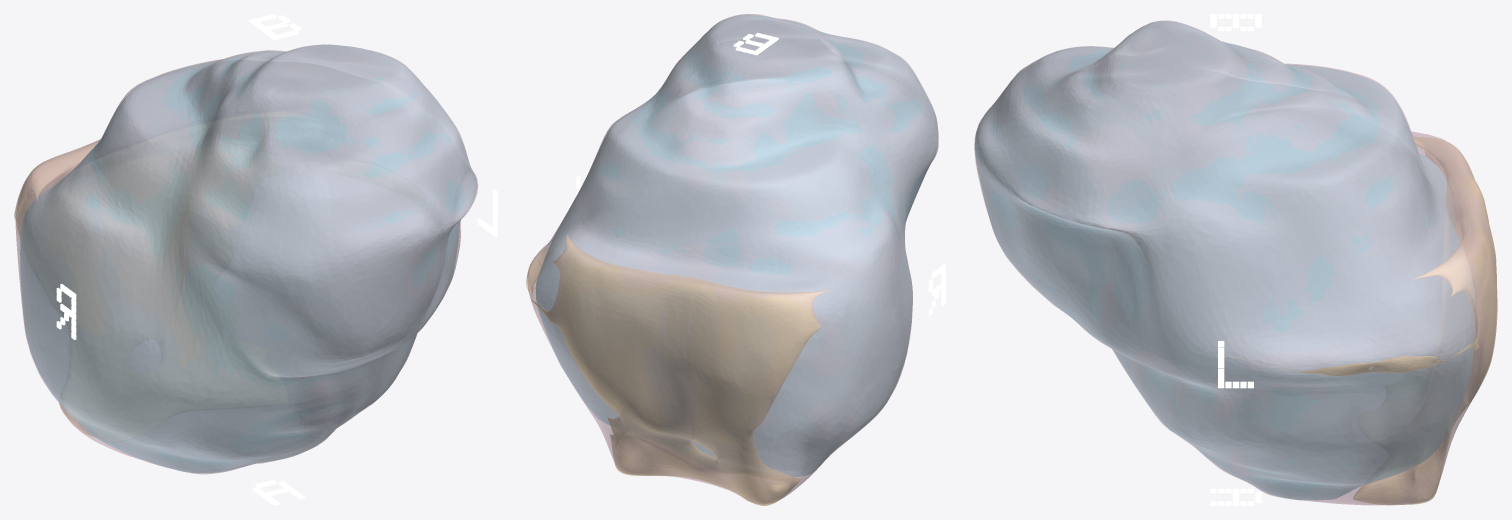
3 views of the same model, side by side, from view 1: azimuth 30°, elevation 25°; view 2: azimuth 150°, elevation 25°; view 3: azimuth 270°, elevation 25° (orthographic). The views are drawn at different scales.
Visible parts, largest first — view 1: prostate_gland, transition_zone, peripheral_zone, pv_ar_marker_B, pv_ar_marker_R, pv_ar_marker_A; view 2: prostate_gland, transition_zone, peripheral_zone, pv_ar_marker_B, pv_ar_marker_R; view 3: prostate_gland, transition_zone, peripheral_zone, pv_ar_marker_B, pv_ar_marker_A.
Boxes of the visible parts, left/top/right/bottom form: prostate_gland: left=15, top=44, right=478, bottom=474; transition_zone: left=20, top=45, right=476, bottom=472; peripheral_zone: left=14, top=139, right=165, bottom=436; pv_ar_marker_B: left=249, top=14, right=301, bottom=40; pv_ar_marker_R: left=56, top=284, right=76, bottom=339; pv_ar_marker_A: left=252, top=480, right=304, bottom=505; prostate_gland: left=527, top=14, right=938, bottom=504; transition_zone: left=536, top=15, right=937, bottom=476; peripheral_zone: left=526, top=234, right=829, bottom=505; pv_ar_marker_B: left=733, top=32, right=778, bottom=55; pv_ar_marker_R: left=928, top=264, right=945, bottom=315; prostate_gland: left=974, top=20, right=1496, bottom=505; transition_zone: left=975, top=21, right=1474, bottom=500; peripheral_zone: left=1215, top=136, right=1497, bottom=504; pv_ar_marker_B: left=1210, top=14, right=1261, bottom=31; pv_ar_marker_A: left=1210, top=488, right=1261, bottom=505.
Size of the model in its own units: 0.0755 by 0.0798 by 0.0793.
